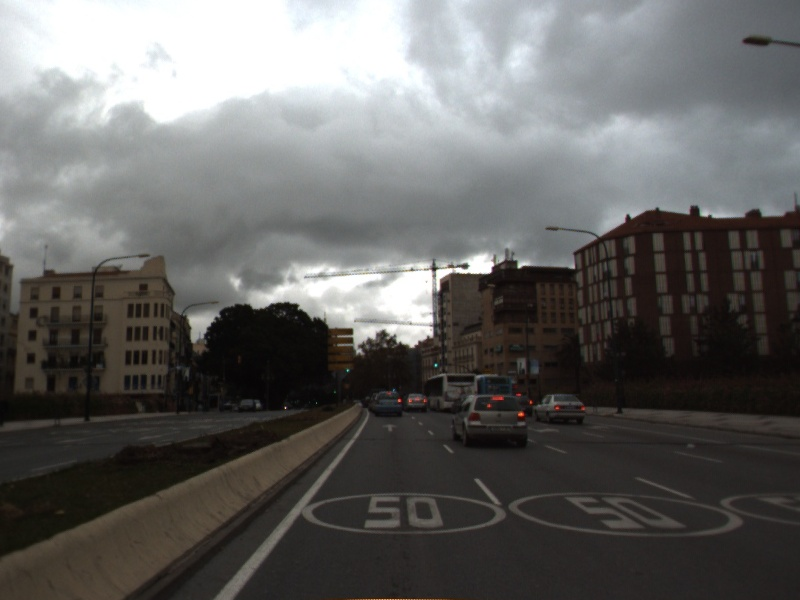STRAIGHT: (380, 422, 400, 433)
